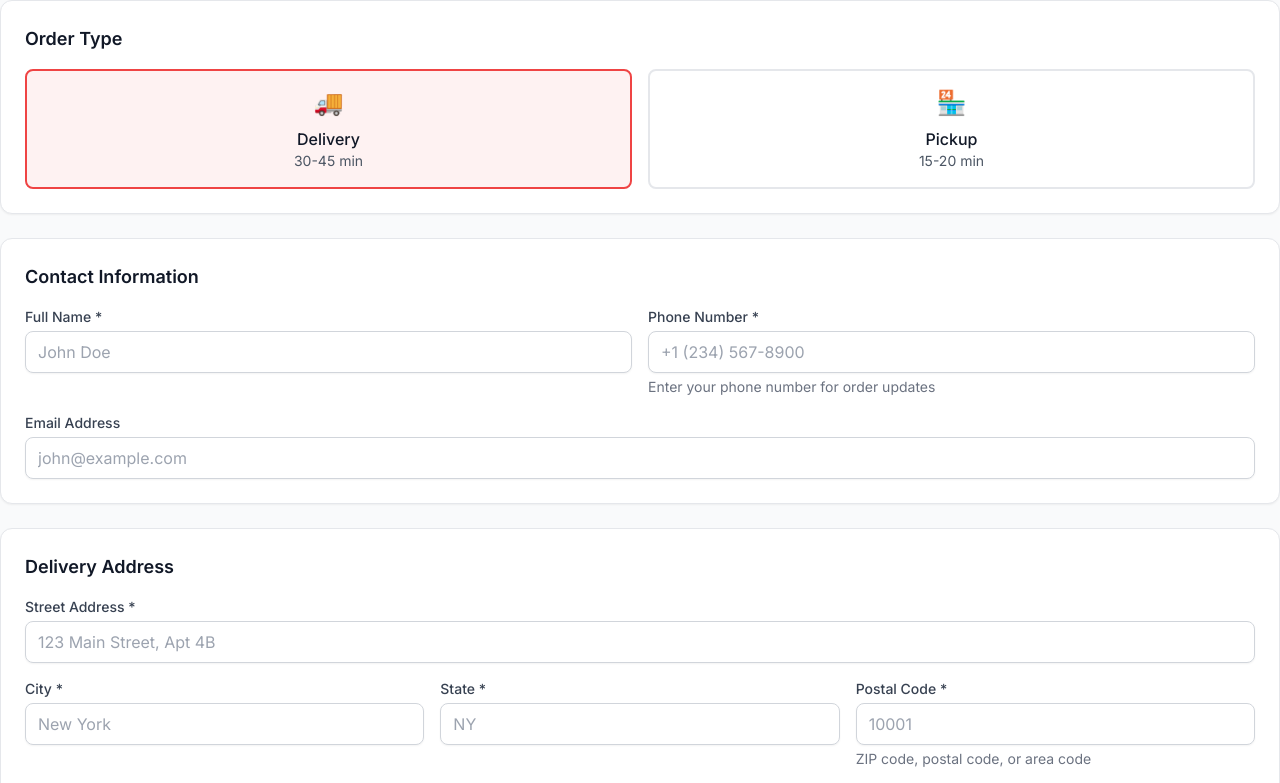
CheckoutForm Validation › Required Field Validation › should validate phone field is required
This screenshot has width=1280, height=783.
Click the field with placeholder "+1 (234) 567-8900".
click(952, 352)  # box 648,331 -> 1255,373
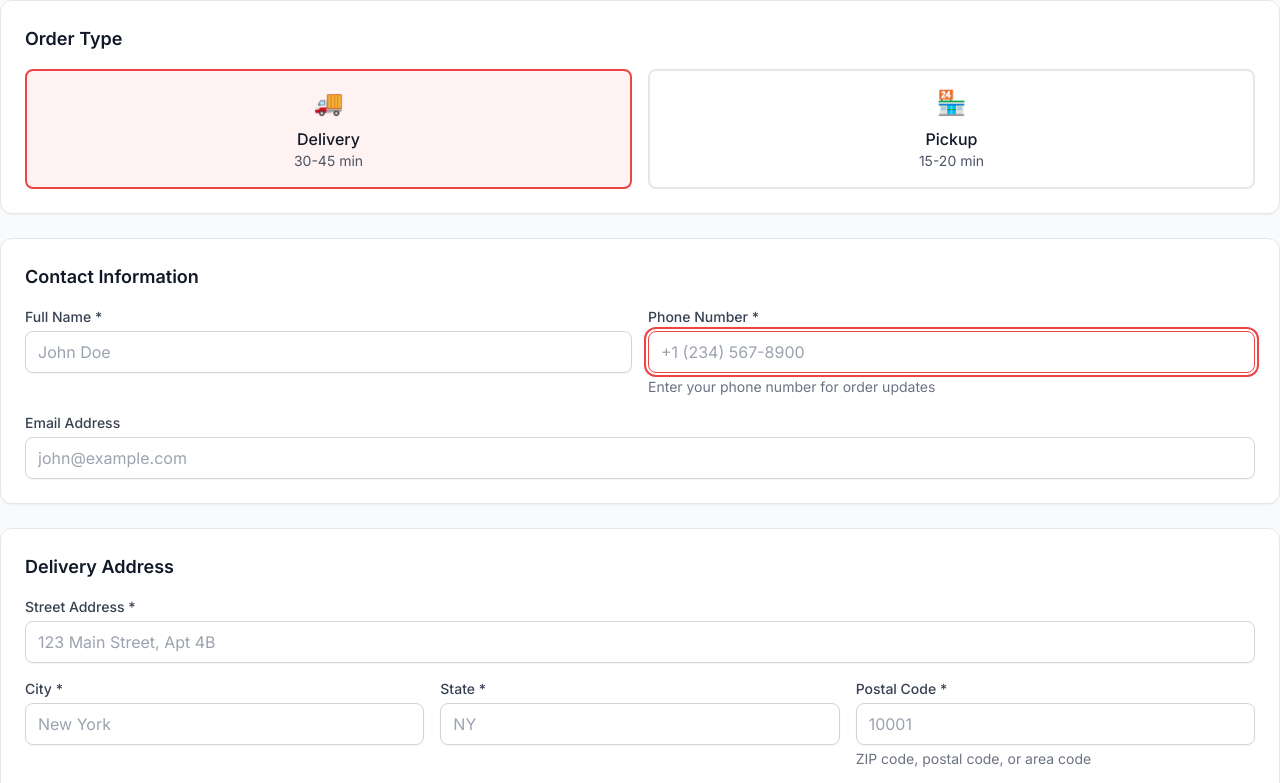
Press Tab
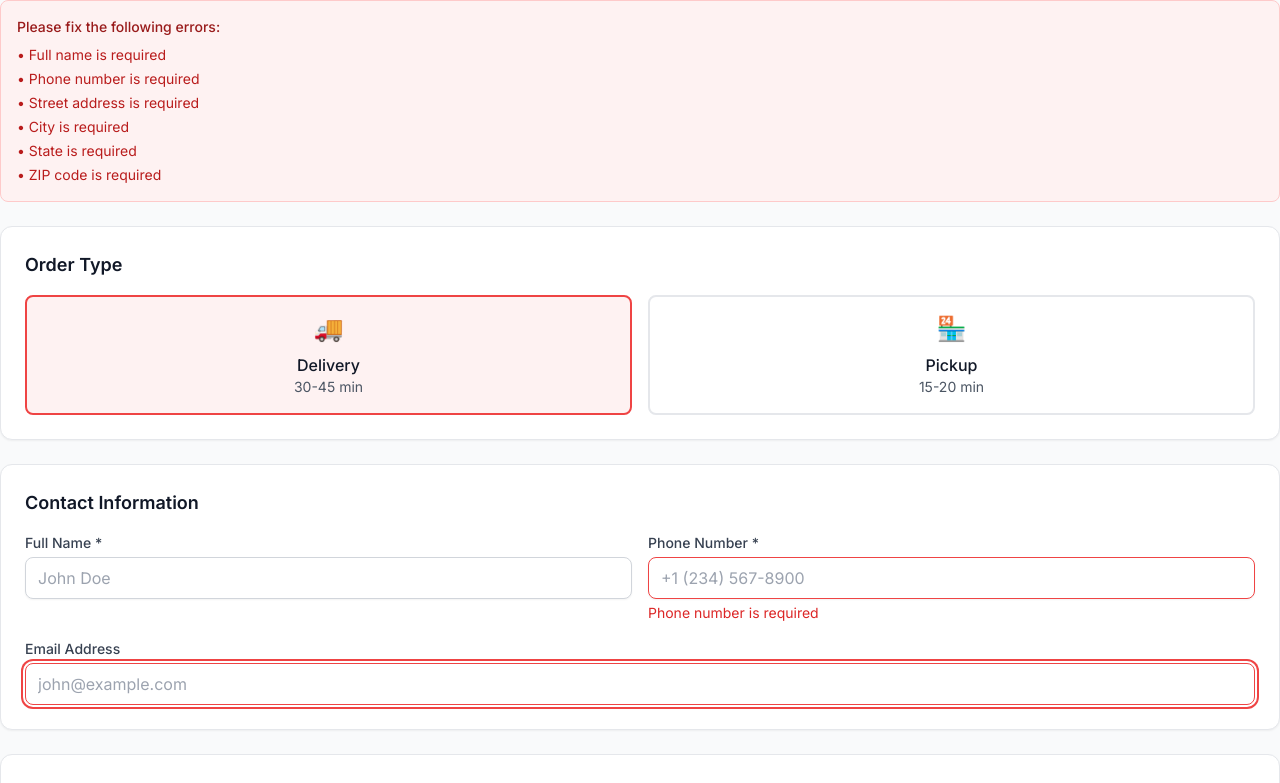
Expected: the text "Phone number is required" is shown, 648,604 -> 819,621
